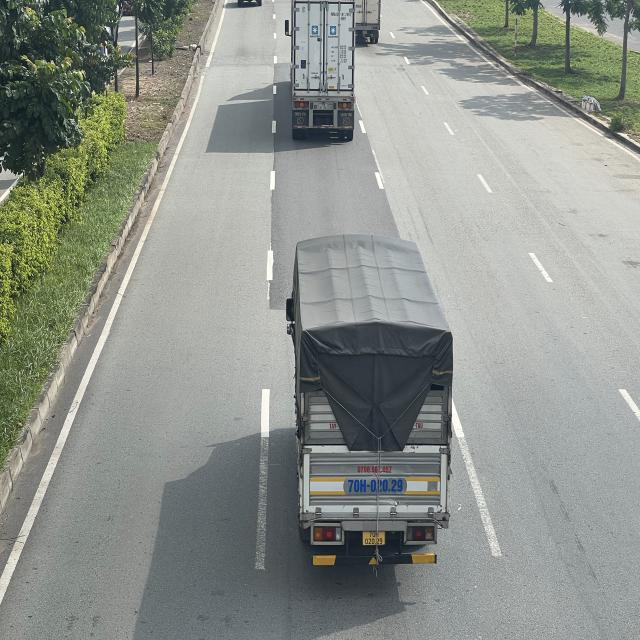container: (288, 2, 358, 140)
truck: (292, 237, 458, 573), (351, 0, 381, 43)
